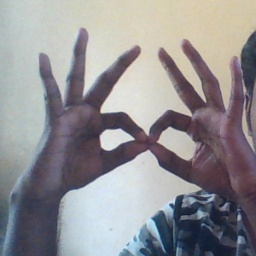B: (84, 93, 203, 184)
